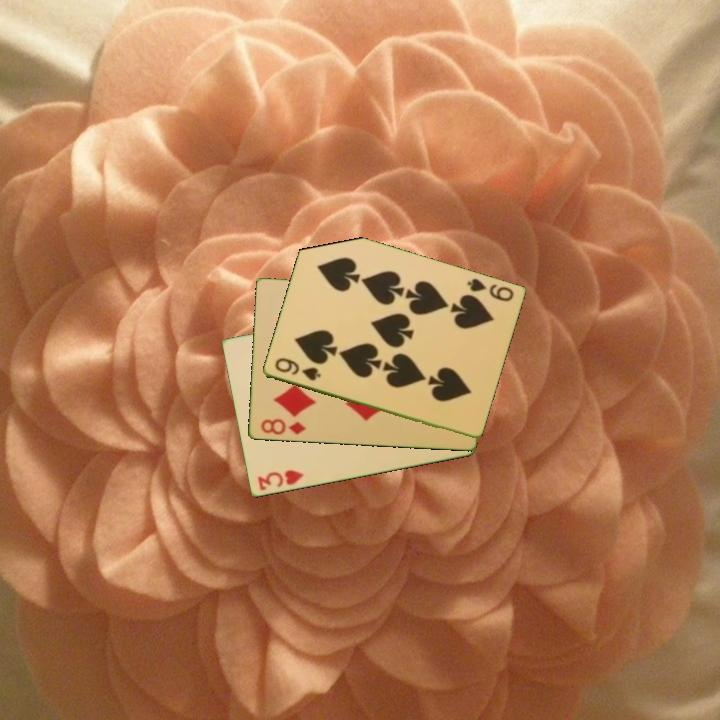3h: (254, 466, 306, 494)
8d: (257, 415, 308, 438)
9s: (463, 275, 516, 305), (271, 354, 323, 384)
